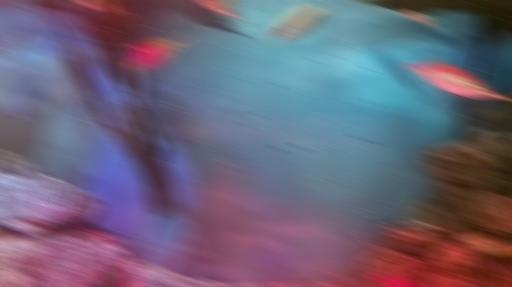Fish: (407, 61, 512, 102), (258, 1, 327, 46), (123, 33, 191, 76), (202, 0, 247, 22), (400, 10, 435, 26)
